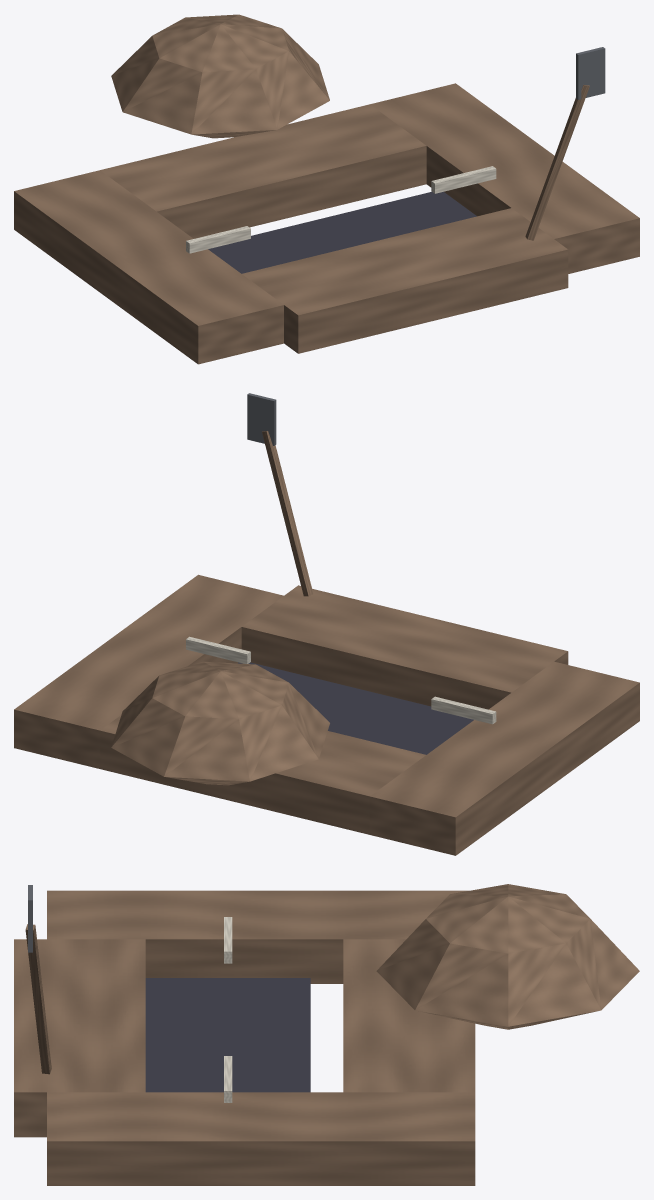
File: vampire-crypt-and-gothic-cathedral-open-grave-01fc4e1c__23049.glb
3 views of the same model, one above another, from view 1: azimuth 30°, elevation 25°; view 2: azimuth 150°, elevation 25°; view 3: azimuth 270°, elevation 25° (orthographic). The views are drawn at different scales.
Parts seen in each view (by area): view 1: open-grave; view 2: open-grave; view 3: open-grave.
Boxes of the visible parts, x1=… form: open-grave: x1=14, y1=14, x2=639, y2=364; open-grave: x1=14, y1=393, x2=639, y2=855; open-grave: x1=14, y1=884, x2=639, y2=1185.
Size of the model in its own units: 3.6 by 1.75 by 3.8.
4 materials, 2 textured.
